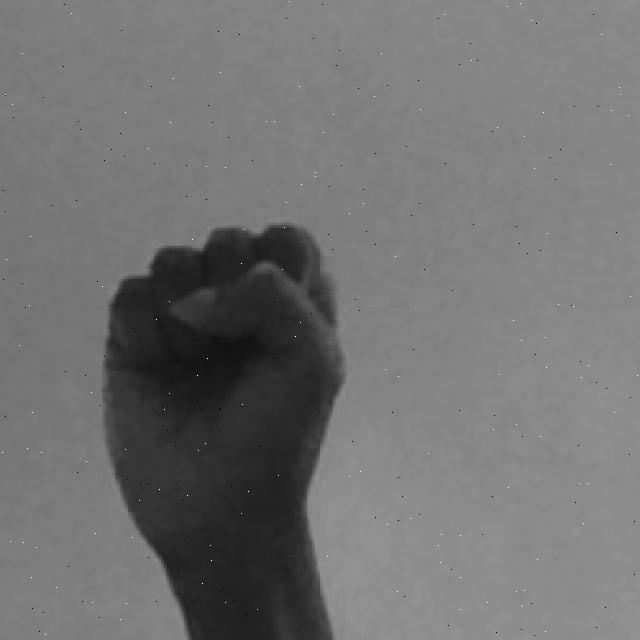S: (100, 217, 355, 639)
